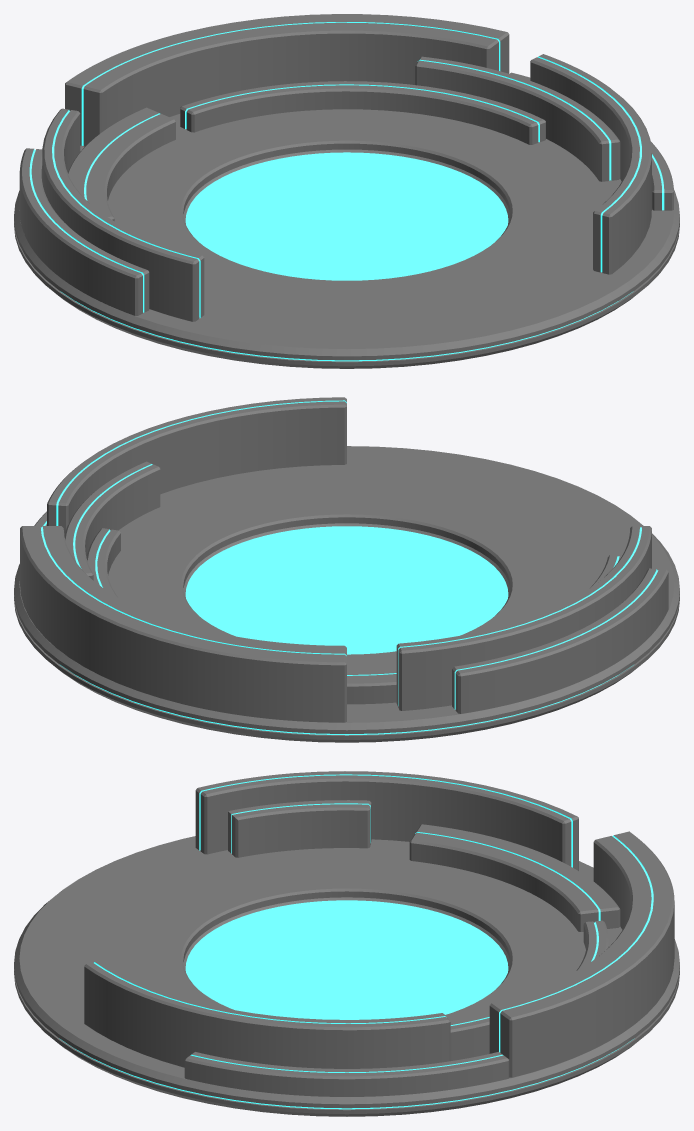
Rendered from Jumping_Board.fbx.
3 views of the same model, one above another, from view 1: azimuth 30°, elevation 25°; view 2: azimuth 150°, elevation 25°; view 3: azimuth 270°, elevation 25° (orthographic).
Parts seen in each view (by area): view 1: Jumping_Board; view 2: Jumping_Board; view 3: Jumping_Board.
Part boxes in pixels (x1=…): Jumping_Board: x1=14, y1=14, x2=679, y2=368; Jumping_Board: x1=14, y1=397, x2=679, y2=742; Jumping_Board: x1=14, y1=771, x2=679, y2=1116.
Bounding box in the file's own units: 305 × 40 × 305.
